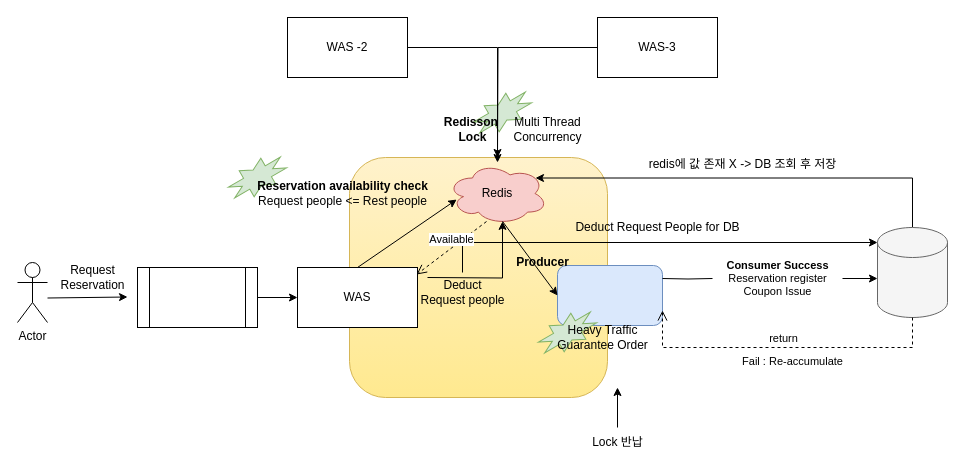
Image size: 965x475. Some labels were removed from this diagram. Here are the shapes that lost their labels. From the top down, the centre of each, then its label:
the point at 912,272: DB
the point at 197,297: 로드 밸렌서
the point at 609,295: KAFKA
